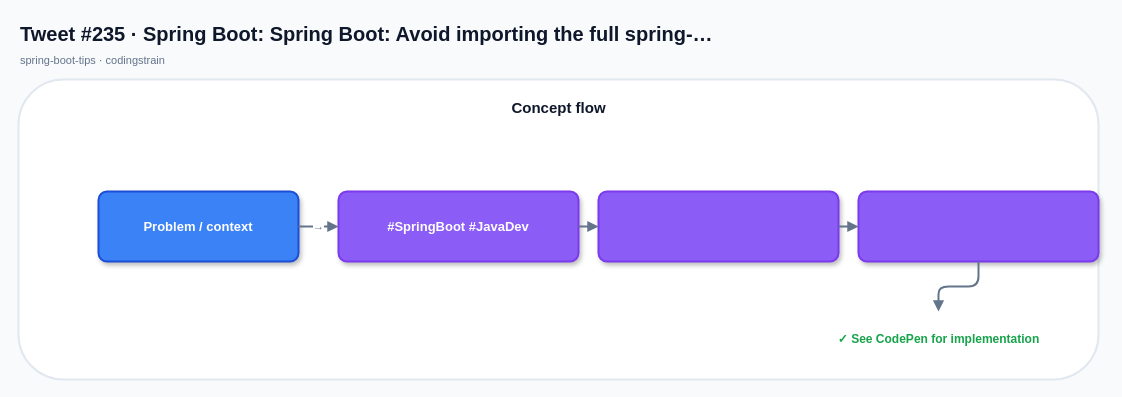
Some shapes in this 1122 by 397 pixel diagram are drawn without their labels. Here are the shapes that lost their labels. From the top down, the centre of each, then its label:
point (719, 227): Runnable sample: `spring-boot-tips`
point (979, 227): Architecture diagram + Carbon CodePen below
